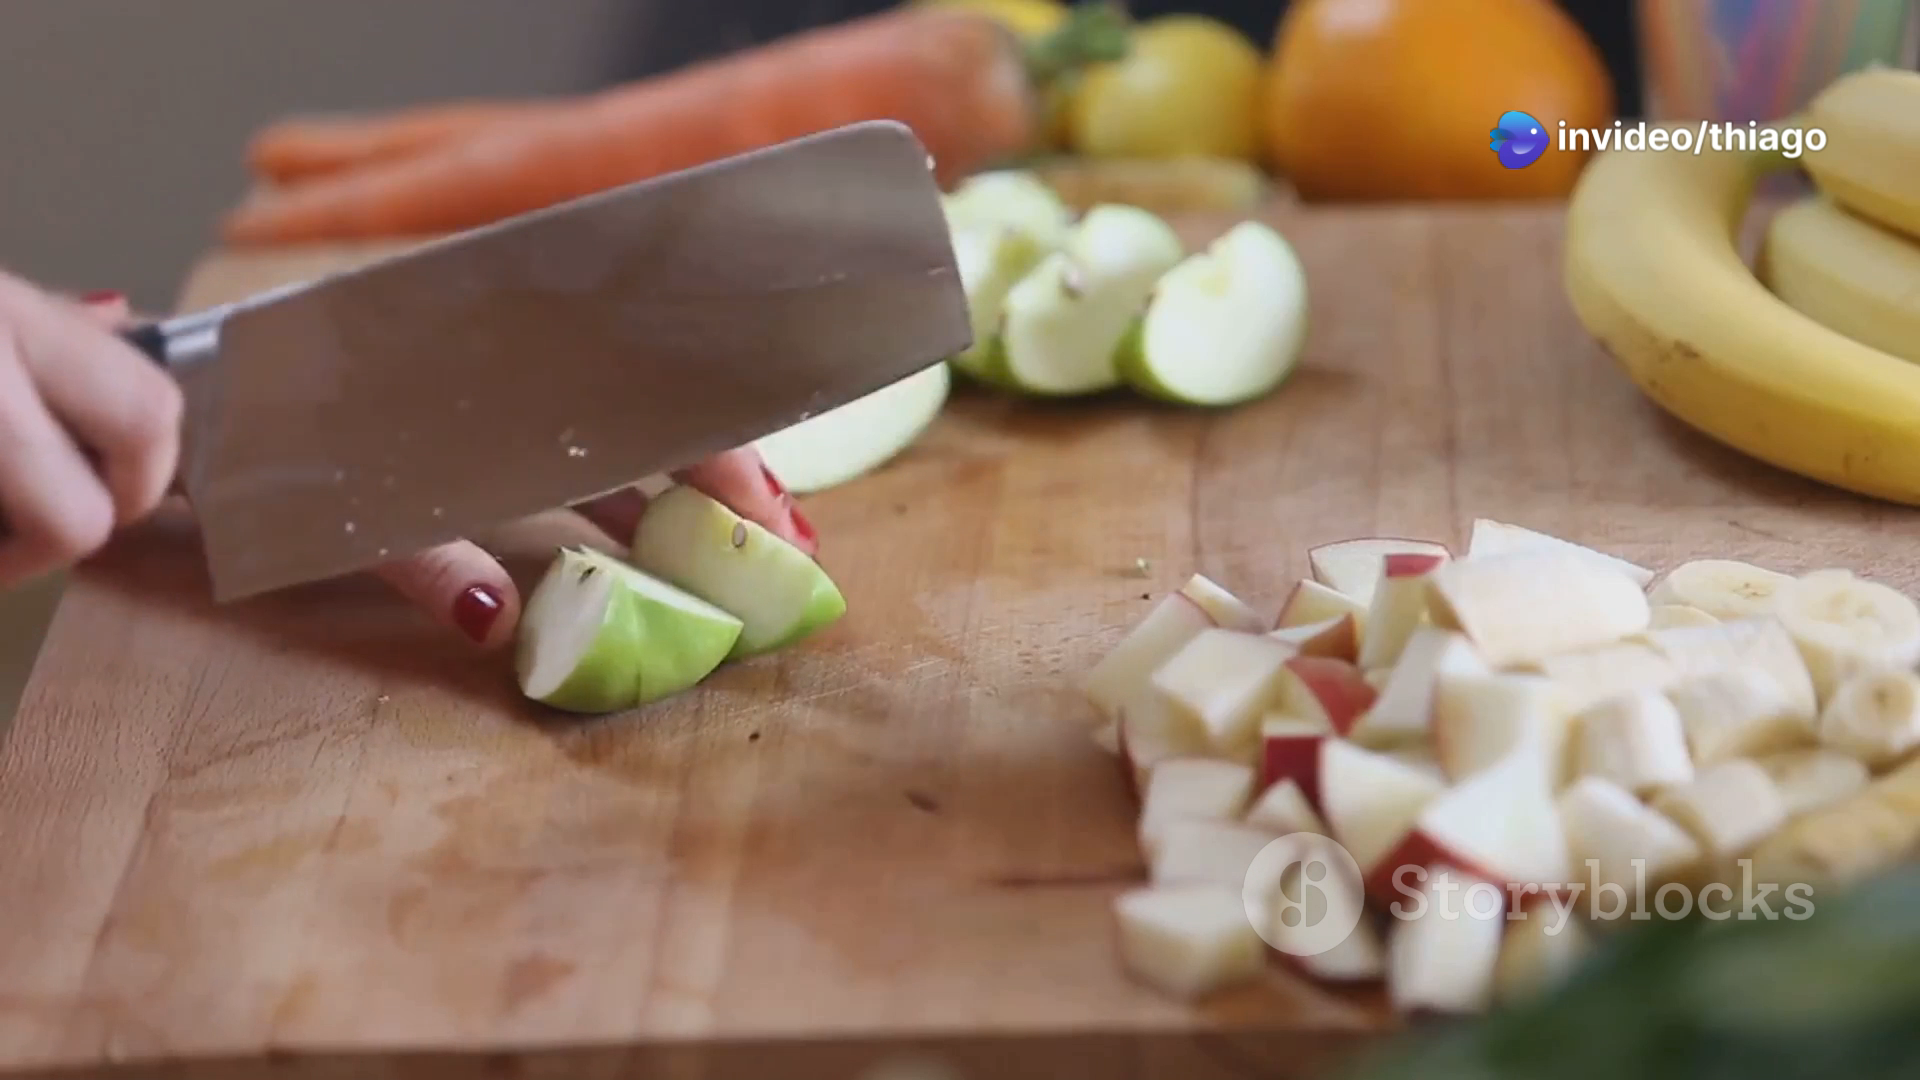cortante: (157, 116, 981, 603)
